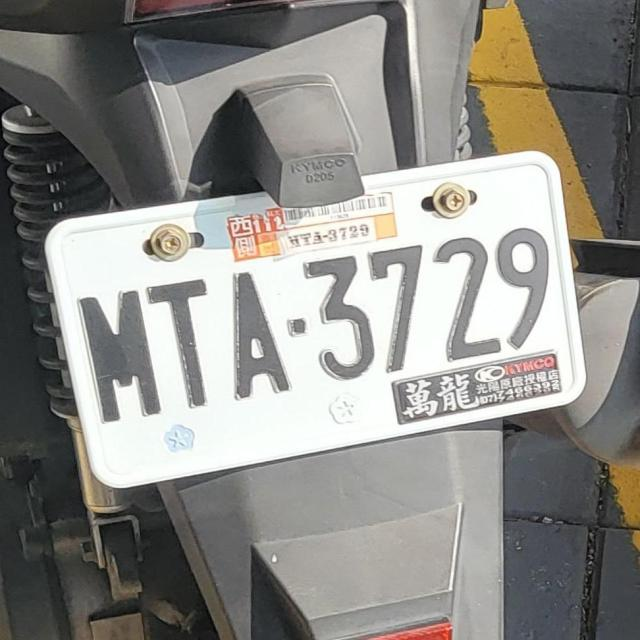W: (34, 144, 594, 494)
